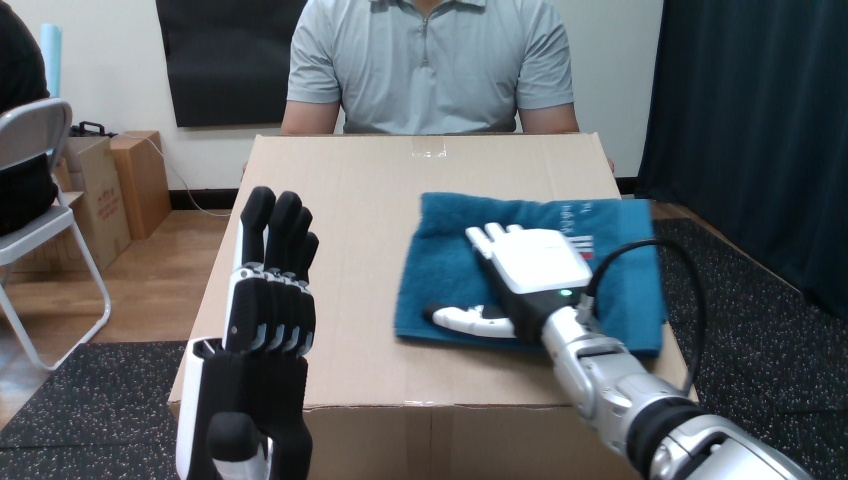left robot hand: (425, 222, 810, 479), (176, 186, 318, 478), (594, 244, 698, 389)
